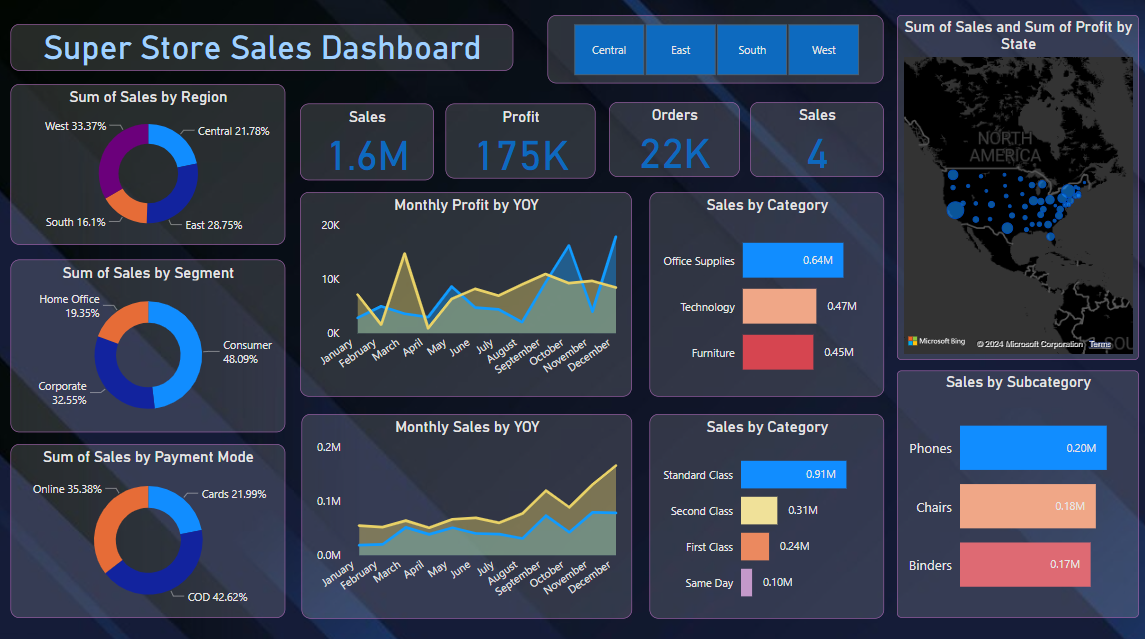

What the dashboard file says about the page in this screenshot:
{"tool":"powerbi","page":{"name":"Page 1","canvas":[1280,720],"ordinal":0},"visuals":[{"type":"clusteredBarChart","title":"Sales by Category","fields":{"Category":["super sale.Category"],"Y":["Sum(super sale.Sales)"]},"box":[724.8,213,260.7,227.3],"z":0},{"type":"clusteredBarChart","title":"Sales by Subcategory","fields":{"Category":["super sale.Sub-Category"],"Y":["Sum(super sale.Sales)"]},"box":[999.7,411.7,268.6,275],"z":1000},{"type":"clusteredBarChart","title":"Sales by Category","fields":{"Category":["super sale.Ship Mode"],"Y":["Sum(super sale.Sales)"]},"box":[724.8,459.3,260.7,227.3],"z":2000},{"type":"areaChart","title":"Monthly Sales by YOY","fields":{"Category":["super sale.Order Date.Variation.Date Hierarchy.Month","super sale.Order Date.Variation.Date Hierarchy.Day"],"Y":["Sum(super sale.Sales)"],"Series":["super sale.Order Date.Variation.Date Hierarchy.Year"]},"box":[338.5,459.3,367.2,227.3],"z":3000},{"type":"areaChart","title":"Monthly Profit by YOY","fields":{"Category":["super sale.Order Date.Variation.Date Hierarchy.Month","super sale.Order Date.Variation.Date Hierarchy.Day"],"Series":["super sale.Order Date.Variation.Date Hierarchy.Year"],"Y":["Sum(super sale.Profit)"]},"box":[337,213,368.7,227.3],"z":4000},{"type":"map","title":"Sum of Sales and Sum of Profit by State","fields":{"Category":["super sale.State"],"Size":["Sum(super sale.Sales)"]},"box":[999.7,15.9,268.6,383],"z":5000},{"type":"donutChart","fields":{"Y":["Sum(super sale.Sales)"],"Series":["super sale.Segment"]},"box":[15,288.3,305,191.7],"z":6000},{"type":"donutChart","fields":{"Y":["Sum(super sale.Sales)"],"Series":["super sale.Payment Mode"]},"box":[15,493.3,305,193.3],"z":7000},{"type":"slicer","fields":{"Values":["super sale.Region"]},"box":[611.9,15.9,373.5,76.3],"z":8000},{"type":"textbox","title":"Super Store Sales Dashboard","box":[15,26.7,558.3,51.7],"z":9000},{"type":"card","title":"Sales","fields":{"Values":["Sum(super sale.Sales)"]},"box":[336.7,115,148.3,85],"z":10000},{"type":"card","title":"Profit","fields":{"Values":["Sum(super sale.Profit)"]},"box":[498.3,115,166.7,83.3],"z":11000},{"type":"card","title":"Orders","fields":{"Values":["Sum(super sale.Quantity)"]},"box":[680,113.3,145,83.3],"z":12000},{"type":"card","title":"Sales","fields":{"Values":["Avg(super sale.AvgDelivary)"]},"box":[836.7,113.3,148.3,83.3],"z":13000},{"type":"donutChart","fields":{"Y":["Sum(super sale.Sales)"],"Series":["super sale.Region"]},"box":[15,93.3,305,178.3],"z":14000}]}

Visuals, with their boxes in screenshot pixels (x1, y1, x2, y2), scaled from the page's 1280x720 canvas onto the 1145x639 screenshot:
"Sales by Category" clusteredBarChart: <region>648, 189, 882, 391</region>
"Sales by Subcategory" clusteredBarChart: <region>894, 365, 1135, 609</region>
"Sales by Category" clusteredBarChart: <region>648, 408, 882, 609</region>
"Monthly Sales by YOY" areaChart: <region>303, 408, 631, 609</region>
"Monthly Profit by YOY" areaChart: <region>301, 189, 631, 391</region>
"Sum of Sales and Sum of Profit by State" map: <region>894, 14, 1135, 354</region>
donutChart - Sum(super sale.Sales) x super sale.Segment: <region>13, 256, 286, 426</region>
donutChart - Sum(super sale.Sales) x super sale.Payment Mode: <region>13, 438, 286, 609</region>
slicer - super sale.Region: <region>547, 14, 881, 82</region>
"Super Store Sales Dashboard" textbox: <region>13, 24, 513, 70</region>
"Sales" card: <region>301, 102, 434, 178</region>
"Profit" card: <region>446, 102, 595, 176</region>
"Orders" card: <region>608, 101, 738, 174</region>
"Sales" card: <region>748, 101, 881, 174</region>
donutChart - Sum(super sale.Sales) x super sale.Region: <region>13, 83, 286, 241</region>
